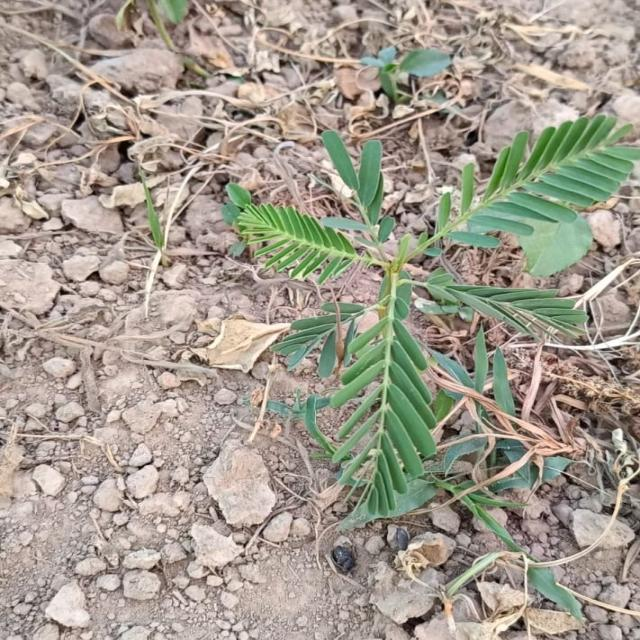plant: (226, 115, 638, 522)
